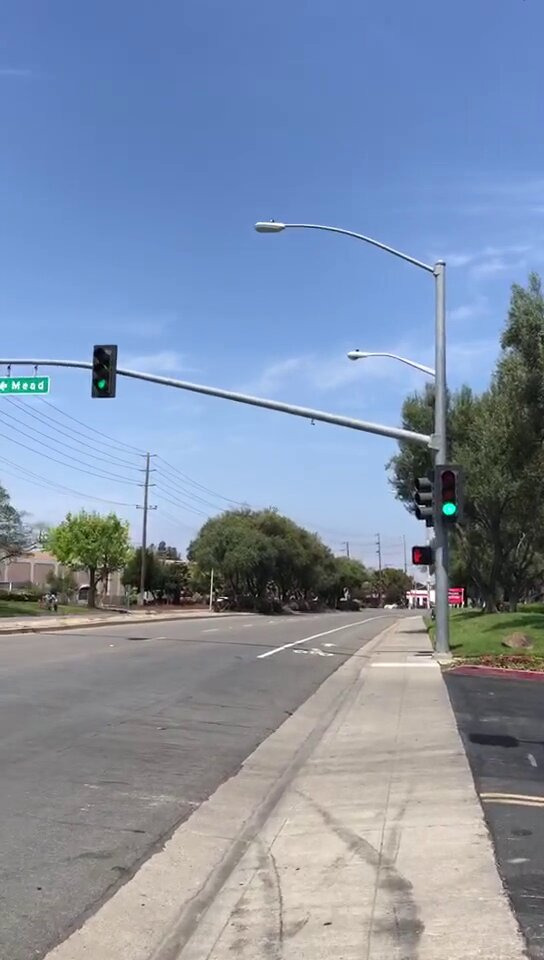green_light: (436, 467, 462, 523), (93, 346, 114, 393)
